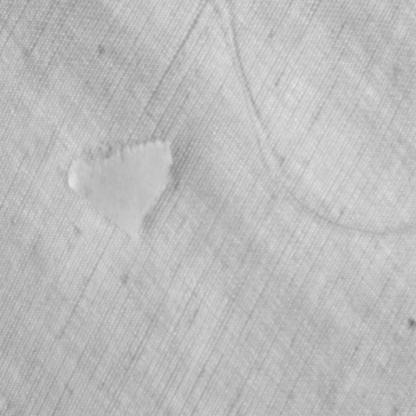objects: (214, 0, 416, 239), (66, 135, 176, 238)
